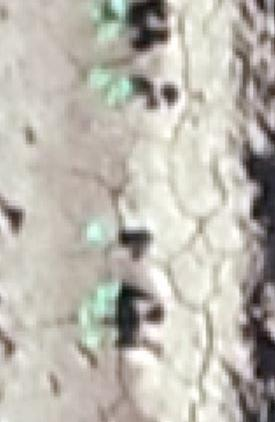cotton: (93, 72, 135, 101), (94, 3, 128, 37), (82, 310, 103, 345), (95, 280, 116, 312), (87, 218, 111, 243)
